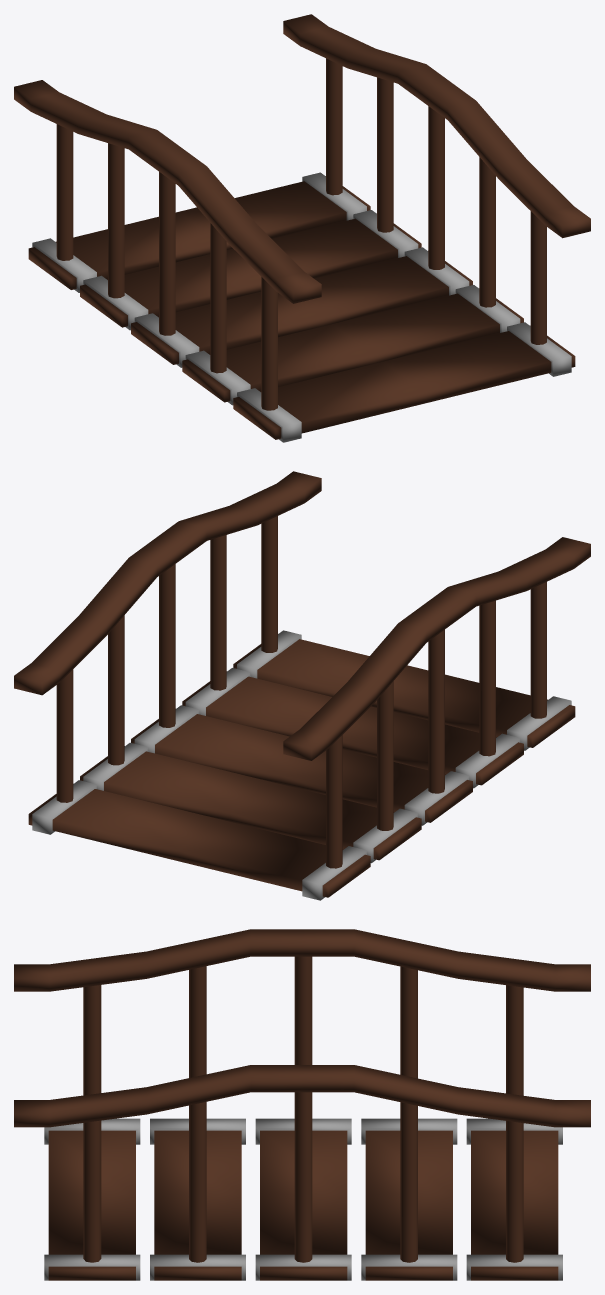
File: Ponte.fbx
3 renders of one model, top to bottom at view 1: azimuth 30°, elevation 25°; view 2: azimuth 150°, elevation 25°; view 3: azimuth 270°, elevation 25°, orthographic. The views are drawn at different scales.
Parts seen in each view (by area): view 1: Ponte; view 2: Ponte; view 3: Ponte.
Boxes of the visible parts, x1=… form: Ponte: x1=14, y1=14, x2=590, y2=442; Ponte: x1=14, y1=471, x2=590, y2=900; Ponte: x1=14, y1=929, x2=590, y2=1280.
Bounding box in the file's own units: 252 × 159 × 407.
